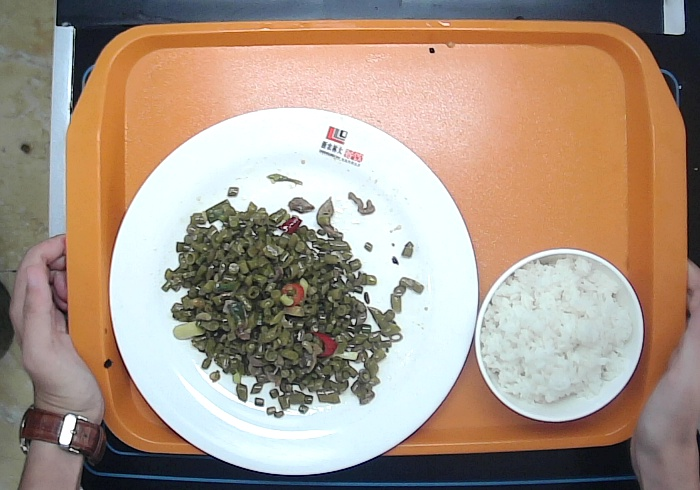ZNLD-Da_Yuan_Pan: (105, 104, 483, 476)
ZNLD-Fan_Wan: (475, 249, 645, 428)
